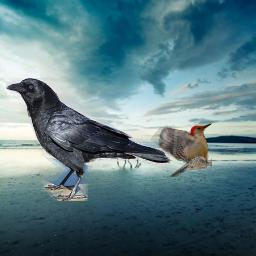Crow: (6, 78, 170, 201)
Woodpecker: (150, 122, 212, 177)
